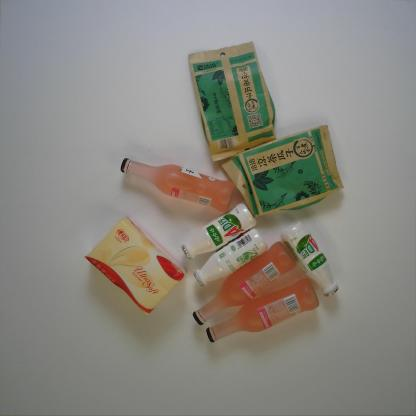Alcohol: (191, 240, 298, 326), (206, 277, 320, 343), (119, 157, 236, 214)
Dried Food: (220, 124, 345, 218), (188, 40, 277, 162)
Milk: (279, 220, 341, 298), (193, 227, 269, 289), (181, 202, 258, 262)
Tissue: (83, 216, 187, 317)
